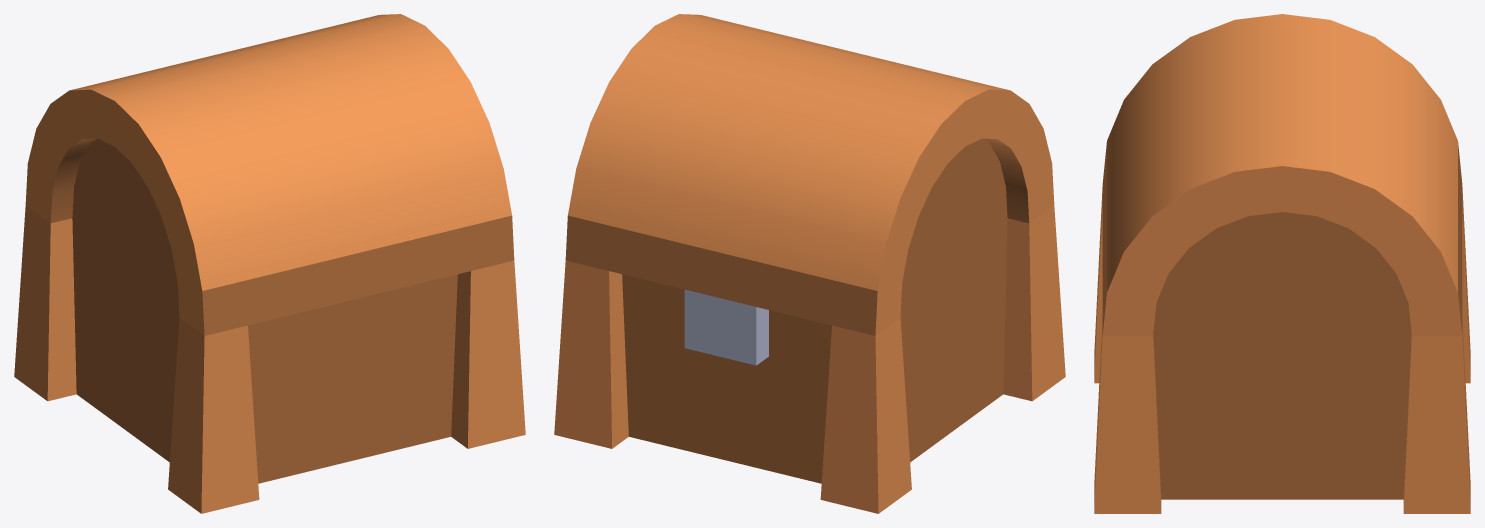
File: chest.fbx
The picture shows the model from 3 angles, left to right: view 1: azimuth 30°, elevation 25°; view 2: azimuth 150°, elevation 25°; view 3: azimuth 270°, elevation 25°; orthographic projection.
Parts seen in each view (by area): view 1: lid, chest; view 2: lid, chest; view 3: lid, chest.
Part boxes in pixels (x1,y1,x2,y2): lid: (25, 14, 514, 335); chest: (14, 205, 525, 513); lid: (565, 14, 1054, 335); chest: (554, 205, 1065, 513); lid: (1102, 14, 1462, 336); chest: (1094, 187, 1470, 513).
Bounding box in the file's own units: 2.6 × 2.63 × 2.6.
